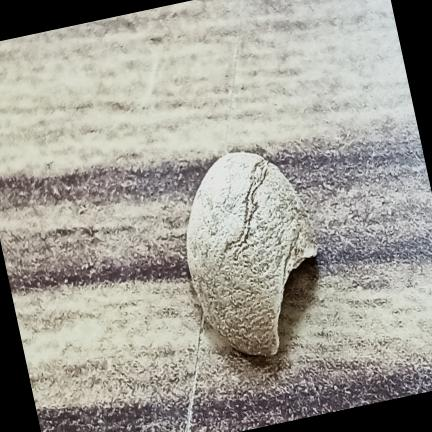cut: (187, 152, 317, 355)
